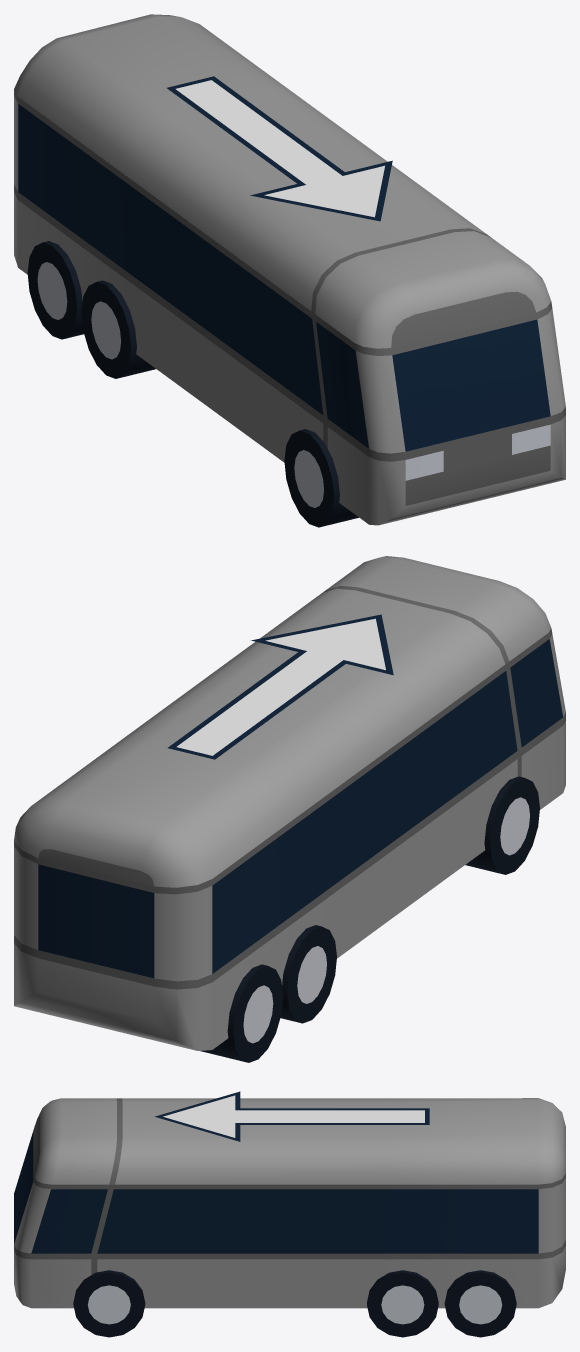
The model's file is BigBus.fbx.
3 renders of one model, top to bottom at view 1: azimuth 30°, elevation 25°; view 2: azimuth 150°, elevation 25°; view 3: azimuth 270°, elevation 25°, orthographic. The views are drawn at different scales.
Parts seen in each view (by area): view 1: Bus, Roof; view 2: Bus, Roof; view 3: Bus, Roof.
Part boxes in pixels (x1,y1,x2,y2): Bus: (14, 89, 565, 527); Roof: (14, 14, 550, 348); Bus: (14, 628, 565, 1062); Roof: (14, 556, 551, 887); Bus: (14, 1127, 565, 1337); Roof: (34, 1091, 565, 1184).
Bounding box in the file's own units: 1.01 × 1.19 × 3.24.
